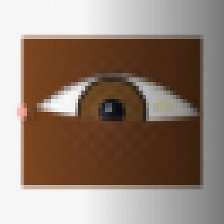pinguecula_lesion: (142, 90, 183, 124)
